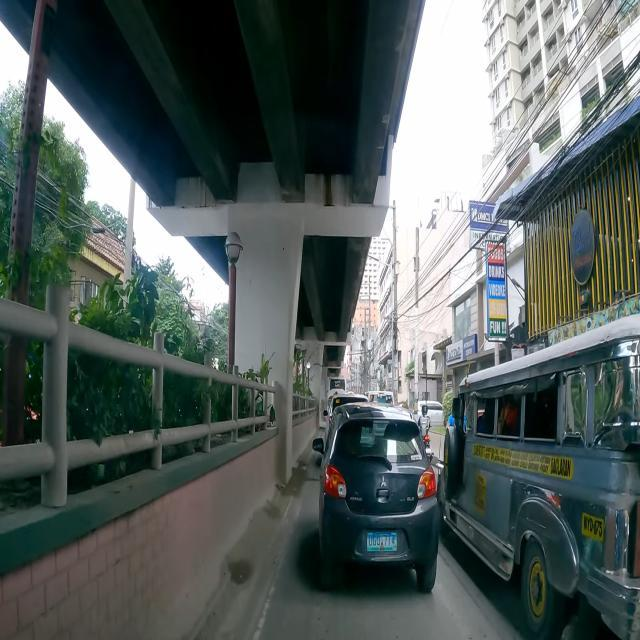bus: (327, 376, 347, 414)
car: (312, 401, 440, 596)
jeepney: (434, 312, 640, 640)
motorcycle: (417, 404, 435, 464)
